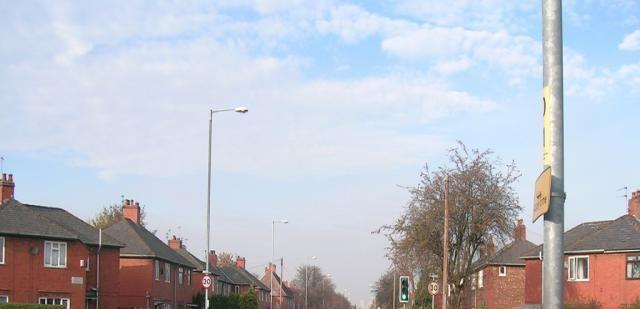green_light: (399, 276, 409, 302)
